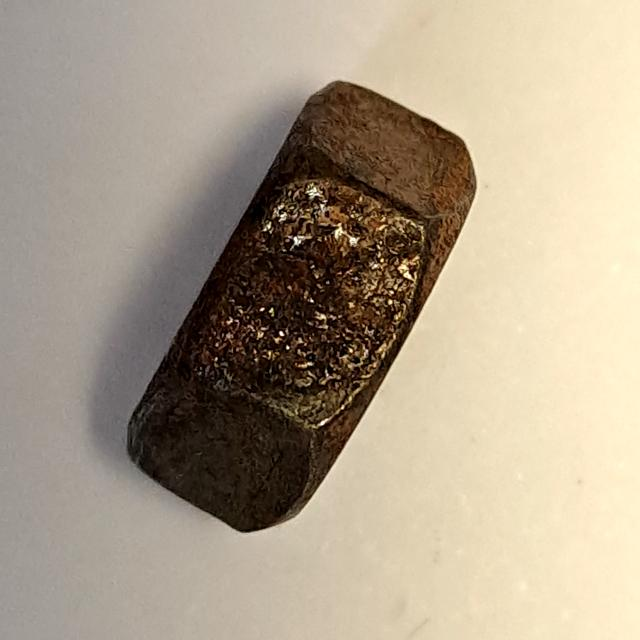Side_Rust: (119, 70, 488, 553)
